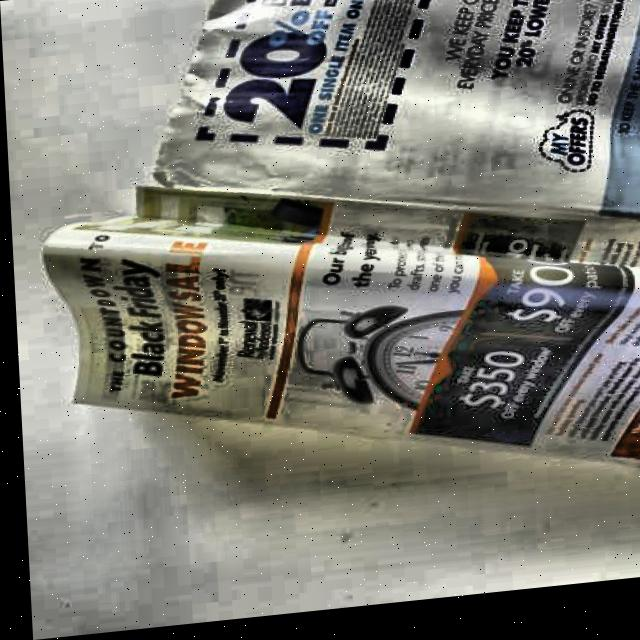paper: (23, 0, 640, 536)
